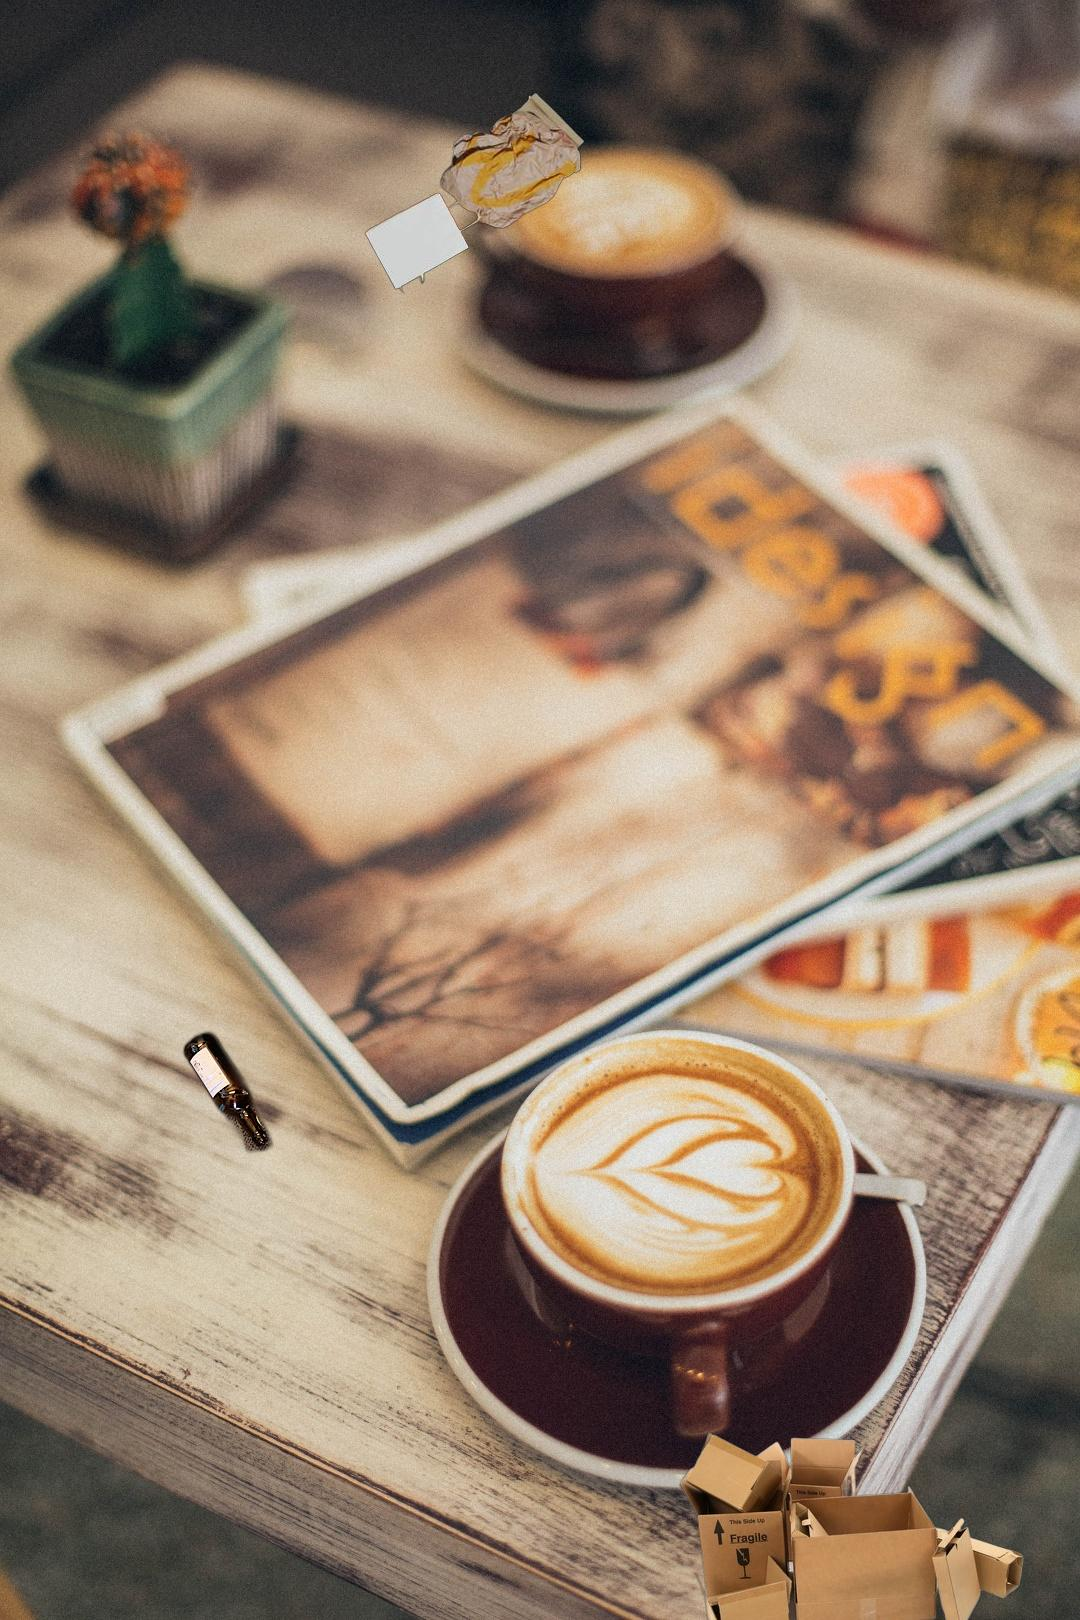glass: (180, 1027, 277, 1158)
paper-bag: (362, 92, 586, 297)
penholder: (738, 1472, 1080, 1620)
trashbox-cardboard: (676, 1430, 1026, 1620)
